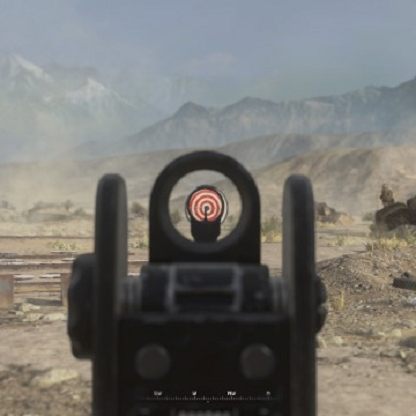target: (185, 185, 228, 220)
